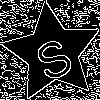S: (27, 27, 78, 84)
